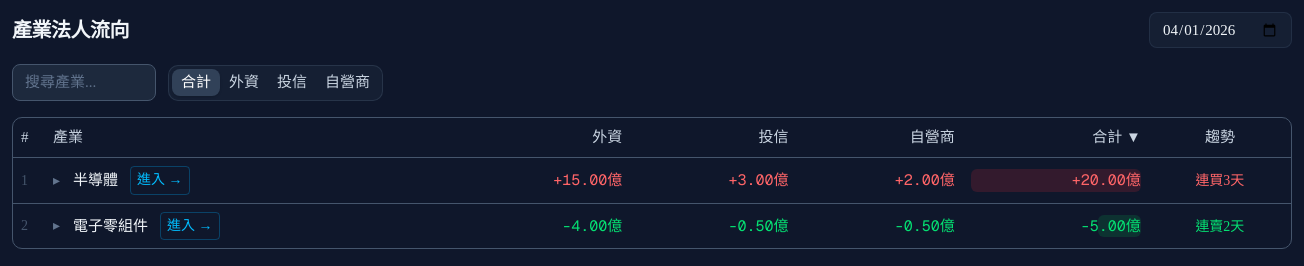
Test case: IndustryDashboard › filters industries by search term
Expected: the text "半導體" is shown, left=73, top=169, right=118, bottom=192
Type "半導體" into the field with placeholder "搜尋產業...".
click(84, 83); type("半導體")  # box left=12, top=64, right=156, bottom=101
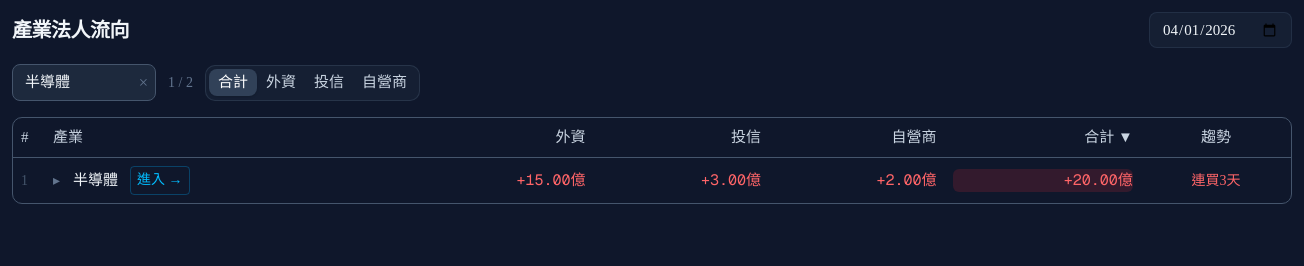
Expected: the text "半導體" is shown, left=73, top=169, right=118, bottom=192
Now the text "電子零組件" is gone
